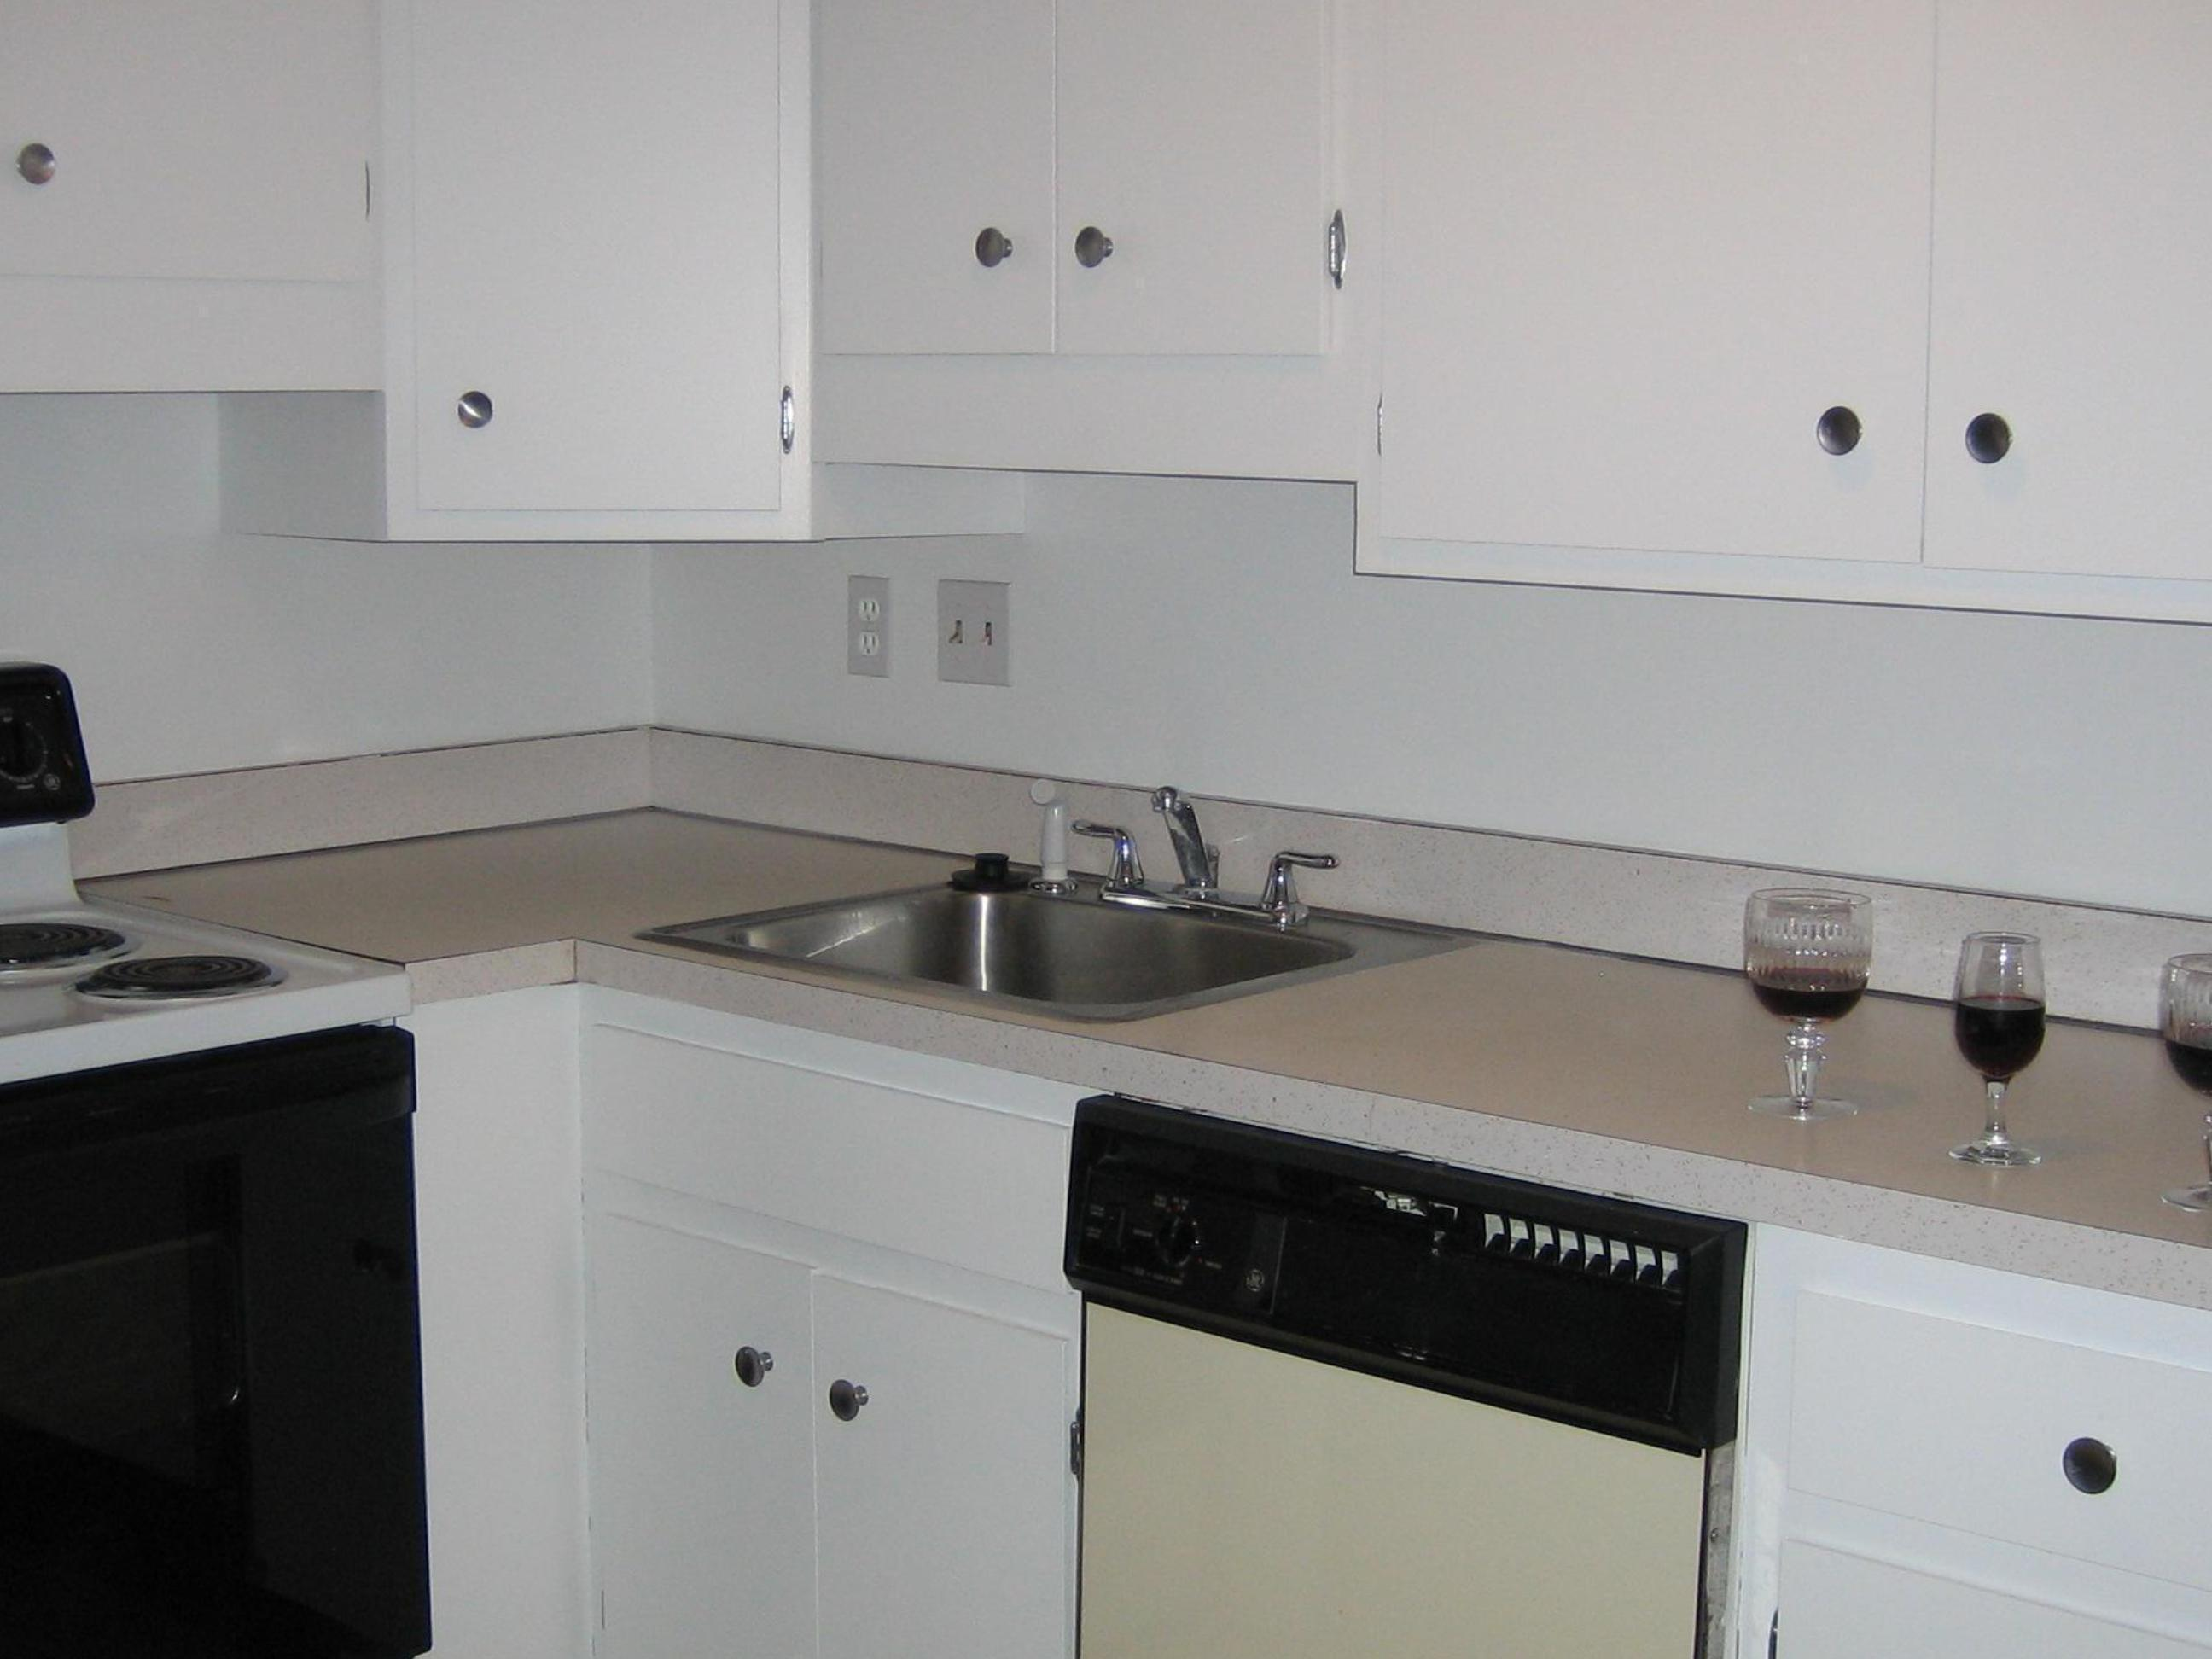Electrodomestico: (0, 709, 395, 1659), (1062, 1140, 1707, 1659)
Lavaplatos: (611, 767, 1381, 1018)
